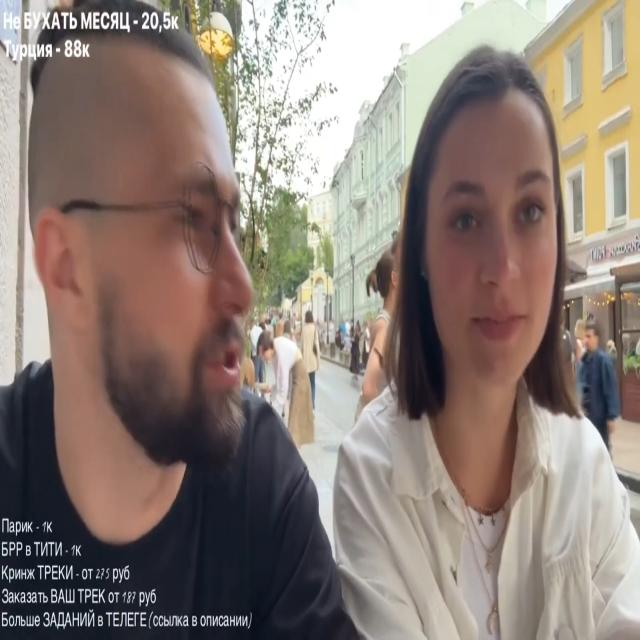Person: (0, 10, 369, 633), (324, 41, 640, 640), (576, 322, 622, 456), (270, 323, 302, 423), (299, 312, 323, 412)
